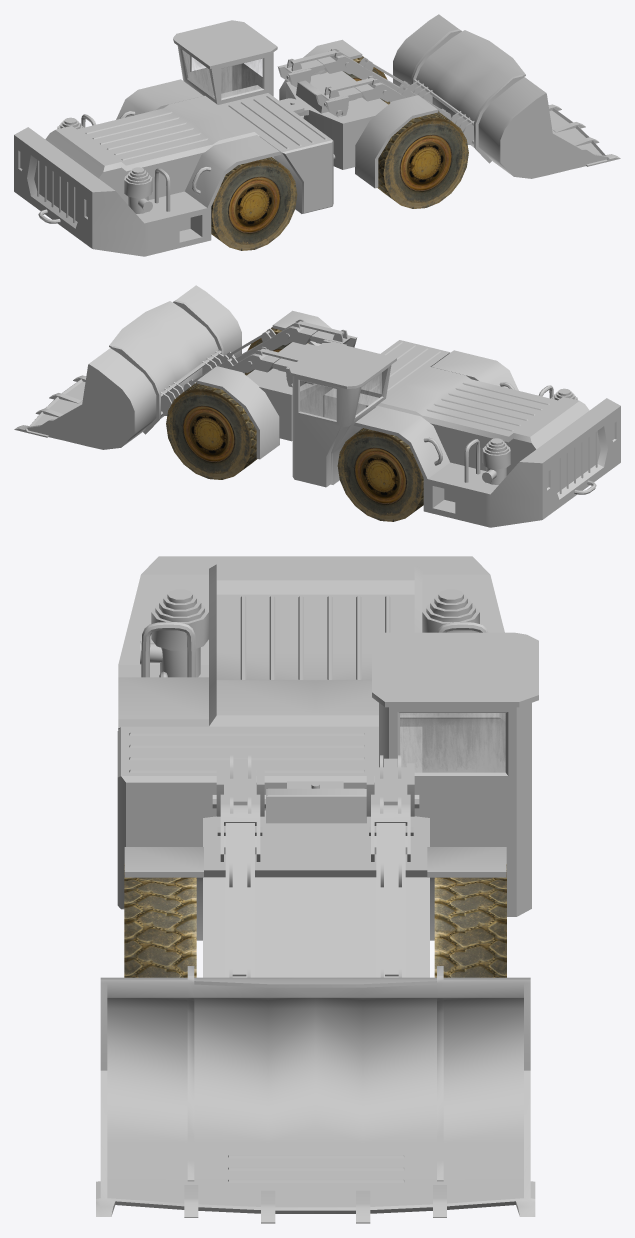
File: front_loader_export_LOD.dae
3 renders of one model, top to bottom at view 1: azimuth 30°, elevation 25°; view 2: azimuth 150°, elevation 25°; view 3: azimuth 270°, elevation 25°, orthographic. The views are drawn at different scales.
Parts seen in each view (by area): view 1: body, loading_shovel, wheels_low, front_body, shovel_bone2, shovel_bone1; view 2: body, loading_shovel, wheels_low, front_body, shovel_bone2, shovel_bone1; view 3: body, loading_shovel, front_body, wheels_low, shovel_bone1, shovel_bone2.
Boxes of the visible parts, x1=… form: body: x1=14, y1=20, x2=335, y2=256; loading_shovel: x1=393, y1=14, x2=620, y2=178; wheels_low: x1=211, y1=56, x2=468, y2=250; front_body: x1=279, y1=39, x2=437, y2=188; shovel_bone2: x1=277, y1=48, x2=399, y2=117; shovel_bone1: x1=346, y1=56, x2=451, y2=120; body: x1=289, y1=340, x2=620, y2=527; loading_shovel: x1=14, y1=285, x2=241, y2=449; wheels_low: x1=166, y1=327, x2=423, y2=521; front_body: x1=197, y1=310, x2=331, y2=459; shovel_bone2: x1=235, y1=319, x2=357, y2=387; shovel_bone1: x1=183, y1=327, x2=288, y2=391; body: x1=117, y1=556, x2=538, y2=916; loading_shovel: x1=96, y1=966, x2=535, y2=1223; front_body: x1=124, y1=788, x2=506, y2=977; wheels_low: x1=124, y1=864, x2=506, y2=977; shovel_bone1: x1=225, y1=823, x2=405, y2=977; shovel_bone2: x1=216, y1=755, x2=414, y2=861.
Size of the model in its own units: 8.5 by 2.05 by 3.07.
